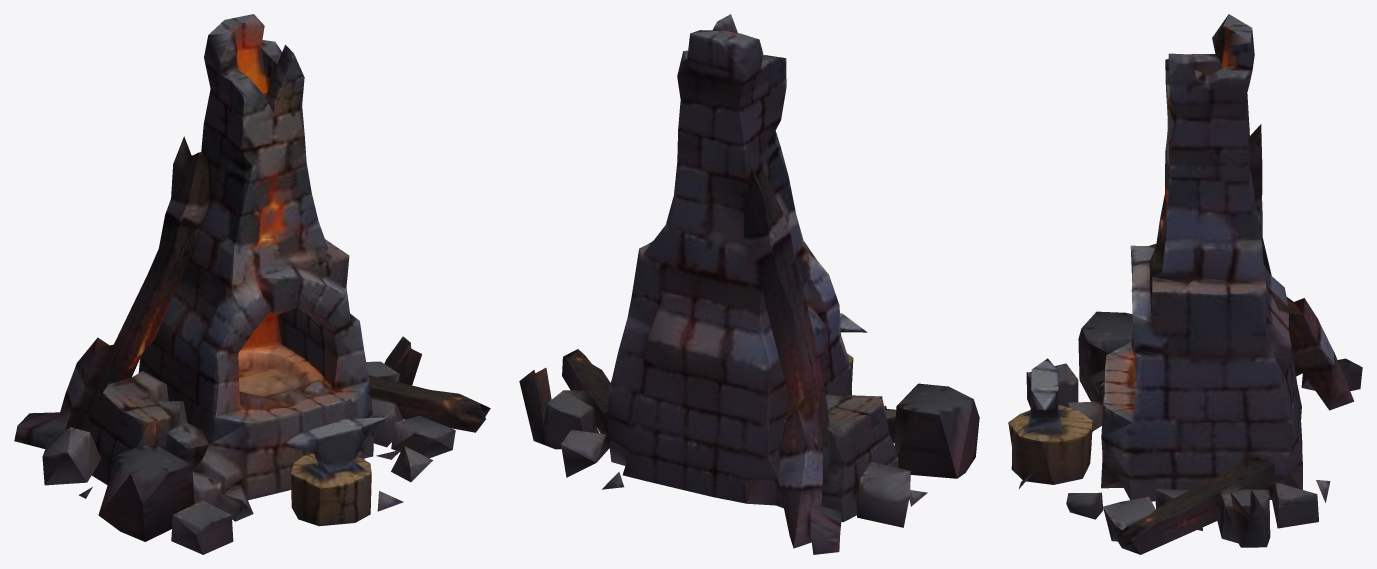
The model's file is d_braises_repere.glb.
The picture shows the model from 3 angles, left to right: view 1: azimuth 30°, elevation 25°; view 2: azimuth 150°, elevation 25°; view 3: azimuth 270°, elevation 25°; orthographic projection. The views are drawn at different scales.
Parts seen in each view (by area): view 1: geometry_0; view 2: geometry_0; view 3: geometry_0.
Boxes of the visible parts, <box> form: geometry_0: <box>14,14,490,554</box>; geometry_0: <box>519,14,979,554</box>; geometry_0: <box>1008,14,1362,554</box>.
Bounding box in the file's own units: 0.9642 × 1 × 0.7342.
1 material, 1 textured.
